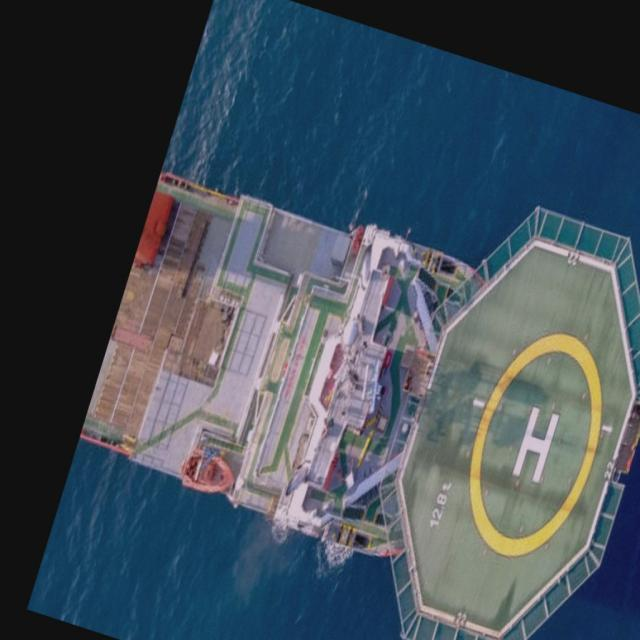helipad: (462, 330, 604, 560)
